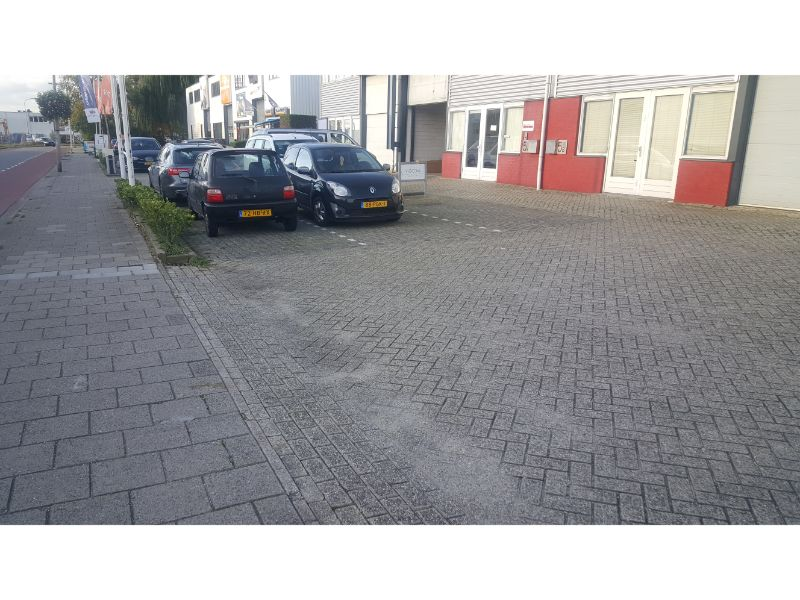kenteken: (238, 207, 272, 218), (362, 199, 389, 209)
